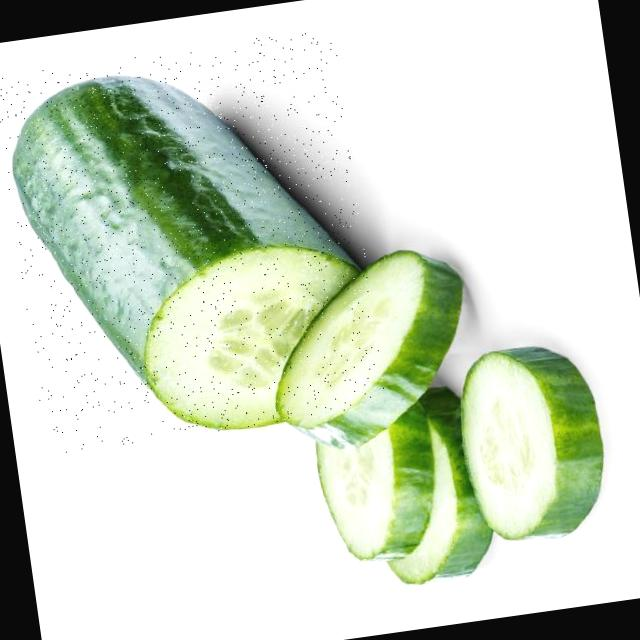Cucumber: (0, 48, 391, 480)
